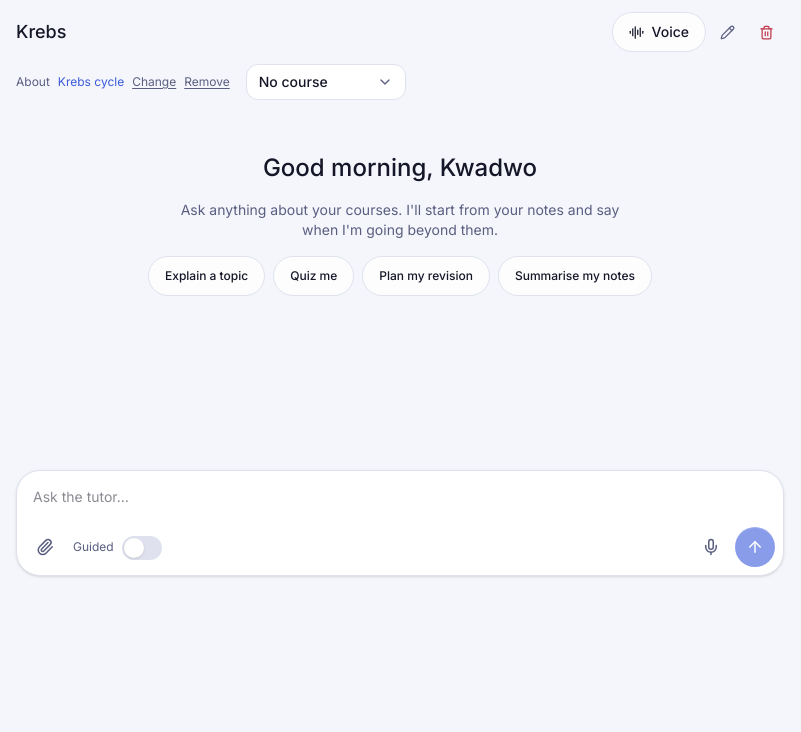
Test: ChatView › goes back and says so when guided mode cannot be saved
What coordinates should you click on to do the following:
click the switch named "Guided"
I would click on:
 (142, 548)
Its box is [122,536,162,560].
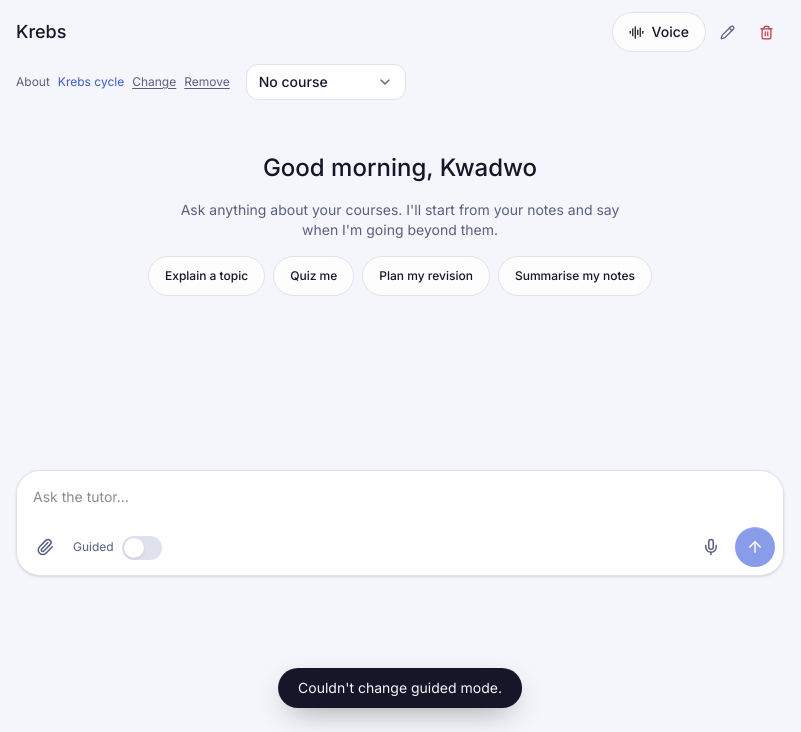
Now the text "Couldn't change guided mode." is shown, box [278,668,522,708]
